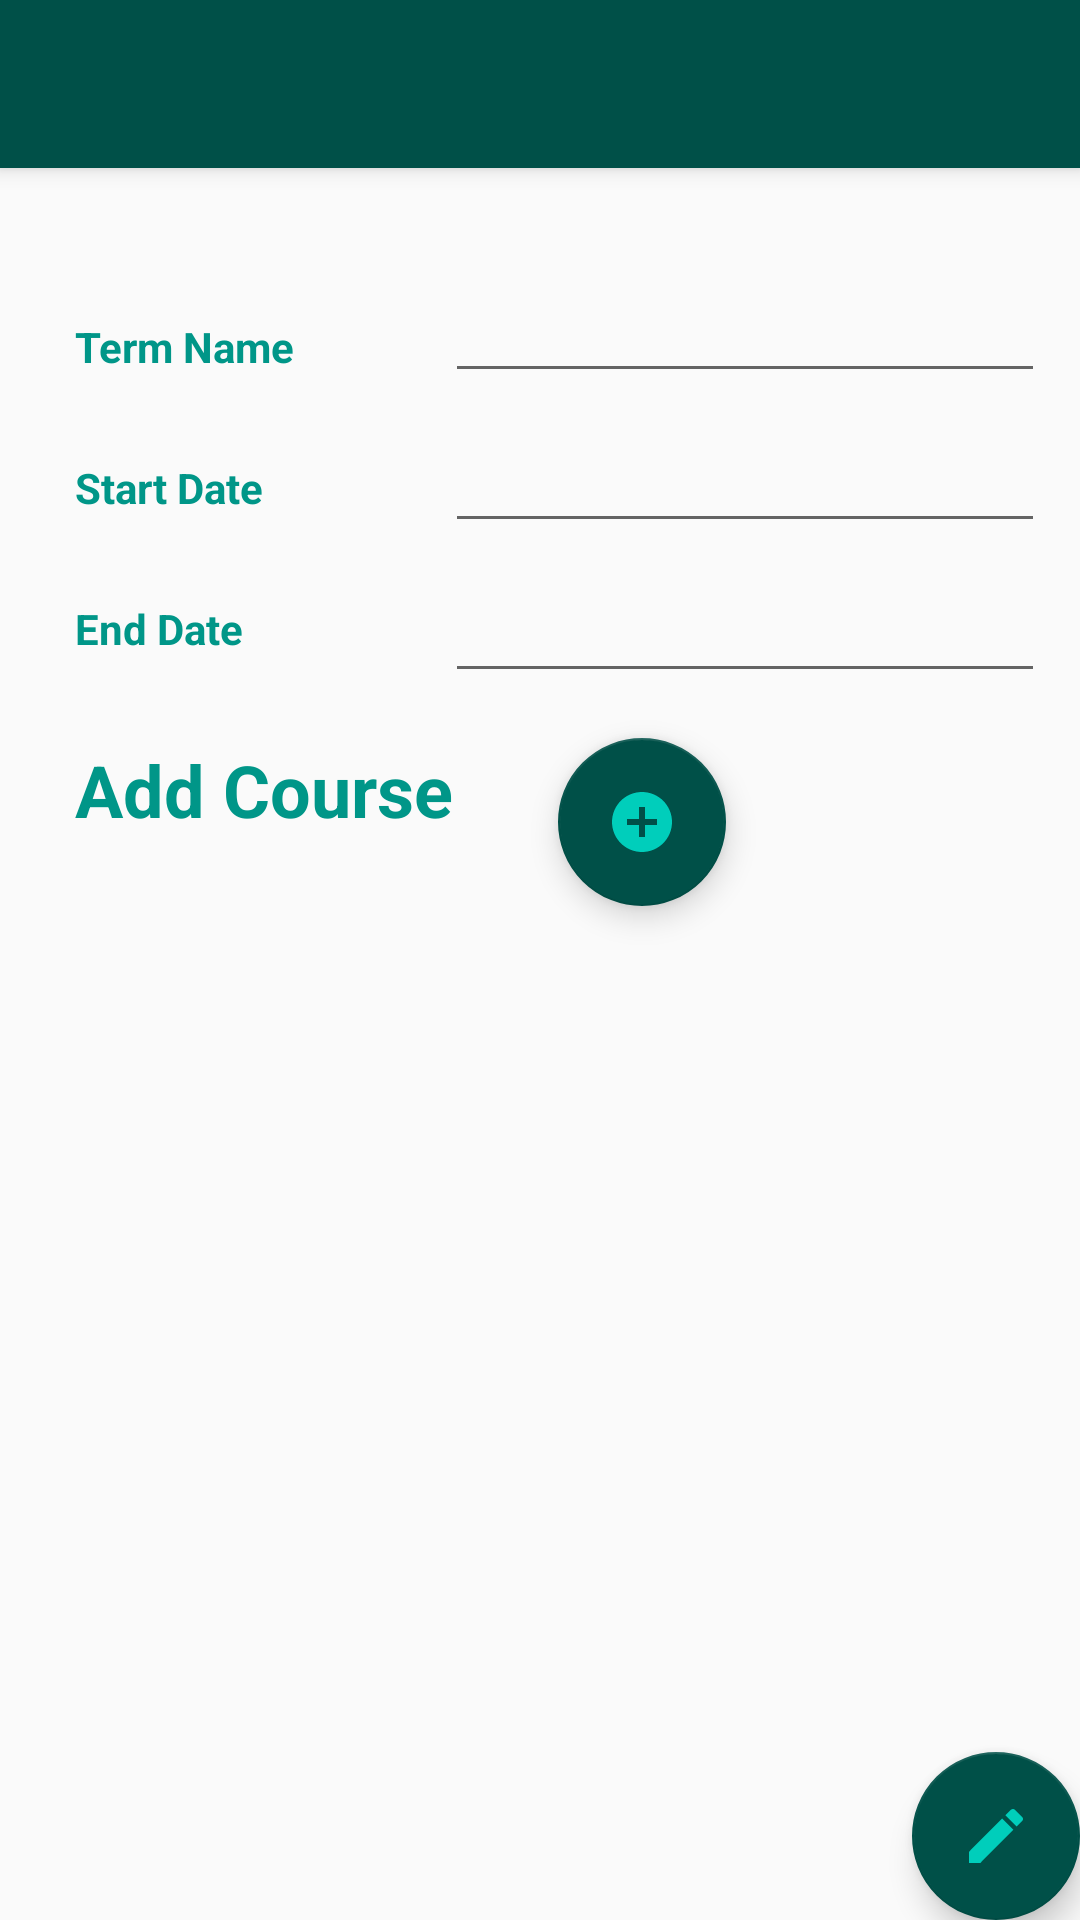

Locate icon controls on the screen. Image size 1080×1920, boxes as (x1, y1, x2, y2).
add circle: (558, 738, 726, 906)
edit: (912, 1752, 1080, 1920)
